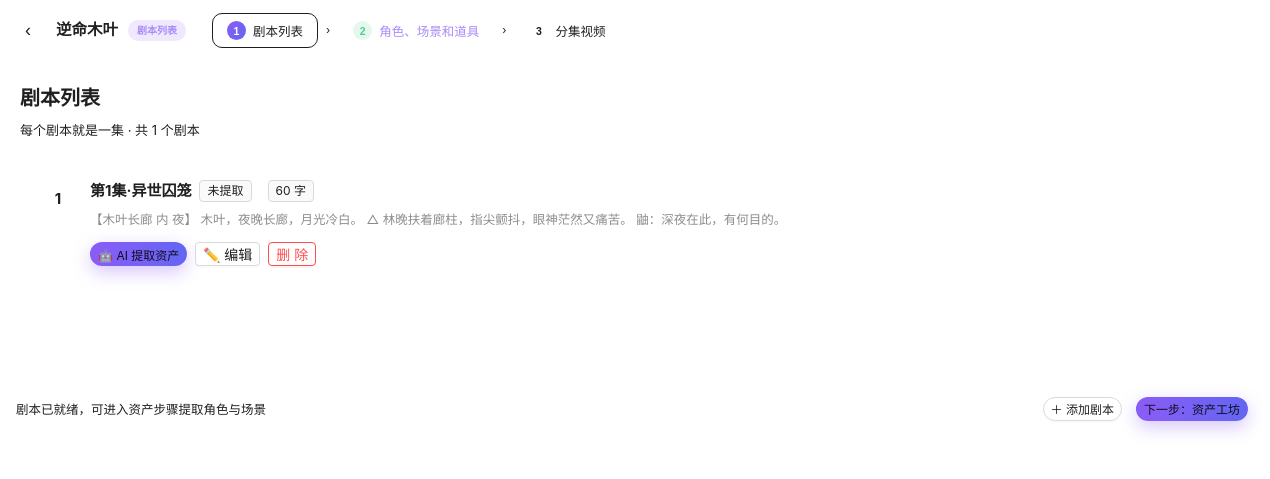
ScriptsPage 剧本列表 › 提取失败：展示后端失败原因，可重新发起
Click the button "🤖 AI 提取资产": point(139, 254) left=90, top=242, right=187, bottom=266
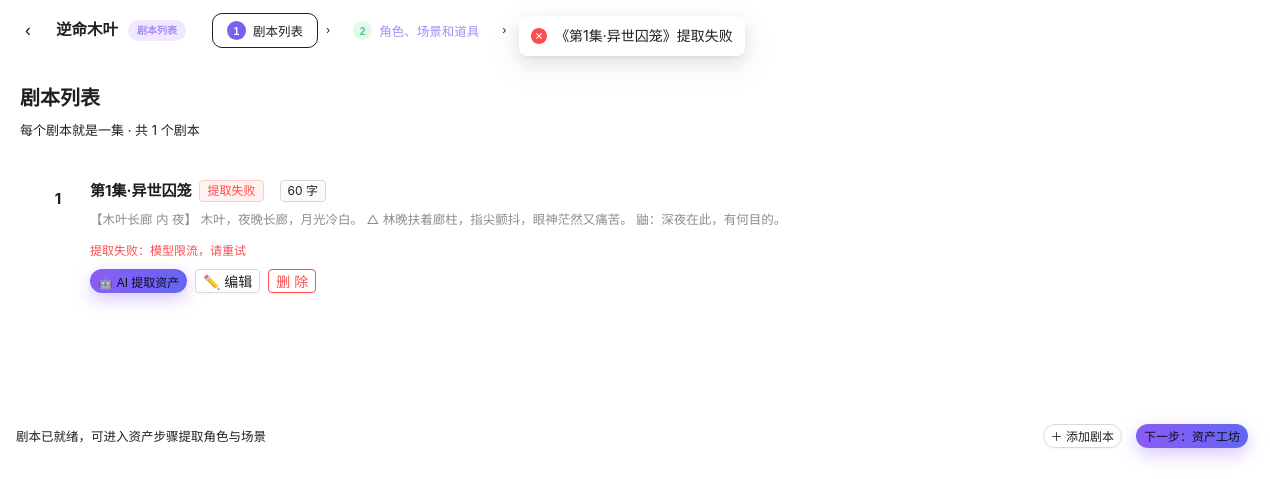
Expected: the text "🤖 AI 提取资产" is shown, left=98, top=273, right=179, bottom=290
Now the text "提取失败" is shown, box left=200, top=180, right=264, bottom=202
Now the text "提取失败：模型限流，请重试" is shown, box left=90, top=243, right=246, bottom=258
